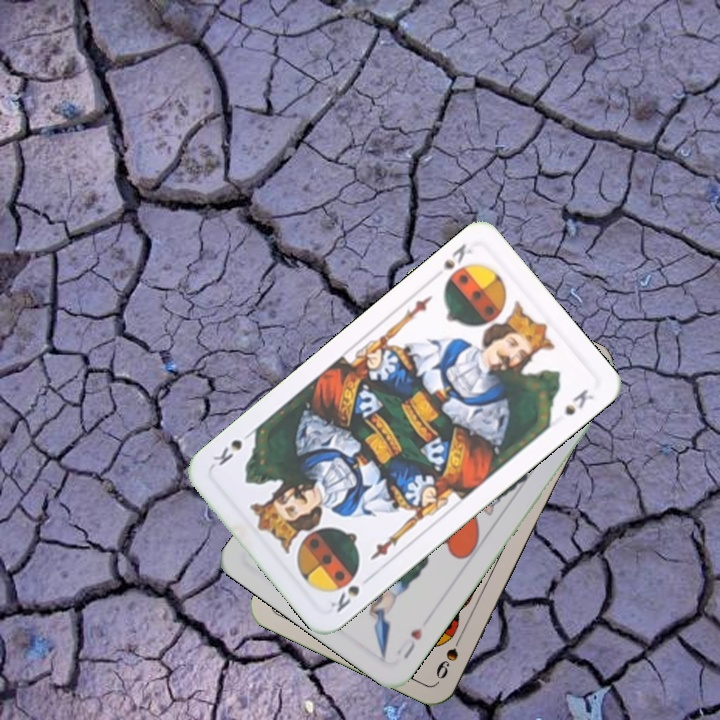HU: (398, 623, 425, 662)
S9: (431, 627, 466, 682)
SK: (326, 571, 375, 616), (439, 239, 475, 273)
